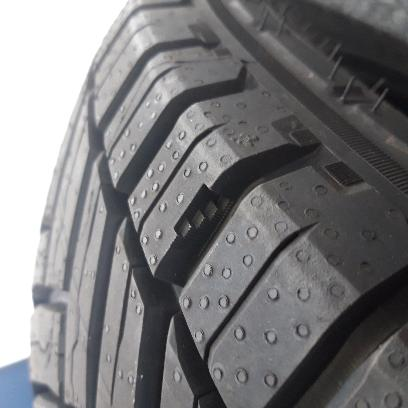temoin:100: (170, 181, 236, 259)
